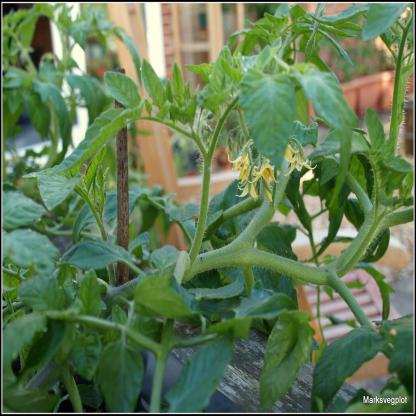tomato leaf: (39, 100, 155, 184), (303, 324, 382, 412), (242, 66, 299, 178), (262, 297, 315, 415), (302, 59, 365, 158), (162, 324, 236, 405), (125, 273, 209, 320), (58, 234, 128, 270), (99, 70, 147, 113), (133, 56, 163, 114)
